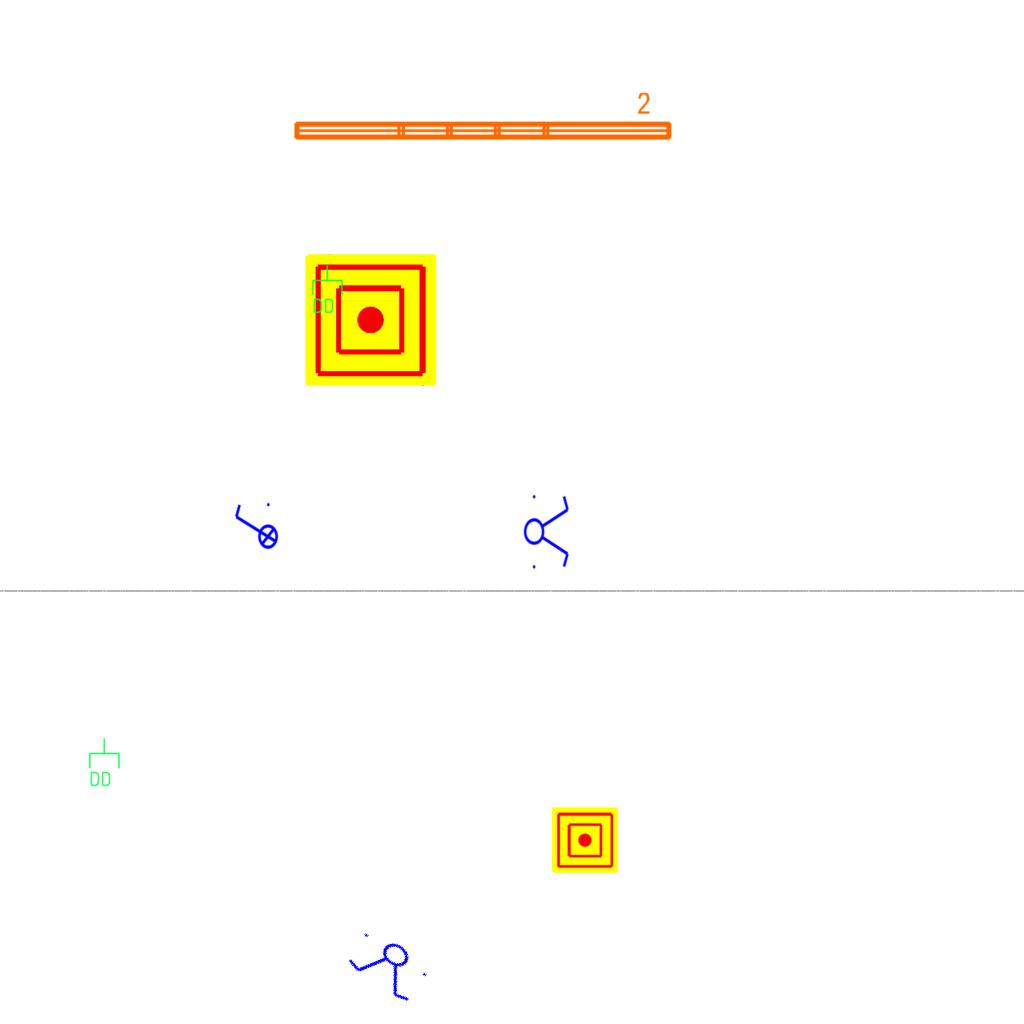Ambulanz_Pendelleuchte_LED: (289, 90, 676, 146)
Ausschalter_beleuchtet: (231, 500, 279, 556)
Datenanschluss_zweifach: (87, 737, 121, 788), (310, 264, 344, 315)
NAM-Nichtautomatischer_Melder: (305, 254, 437, 386), (552, 807, 618, 873)
Serienschalter: (340, 922, 438, 1010), (523, 489, 571, 573)
